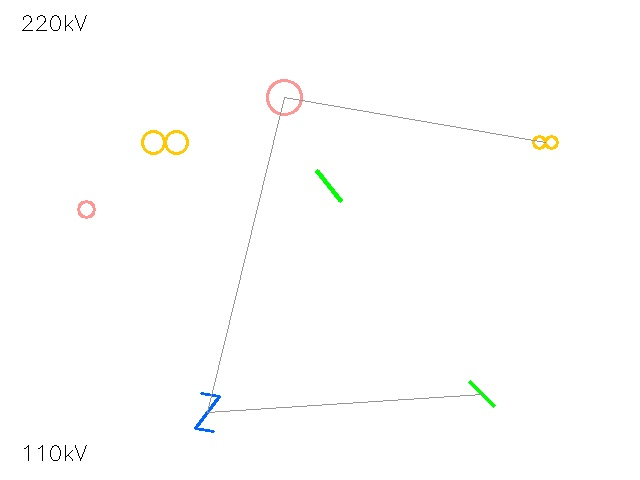busbar: (306, 163, 352, 209), (462, 374, 502, 414)
circuit_breaker: (187, 392, 227, 432)
current_transformer: (250, 63, 318, 131)
transformer_2w: (137, 114, 193, 170), (530, 127, 560, 157)
voltage_transformer: (69, 192, 103, 226)
